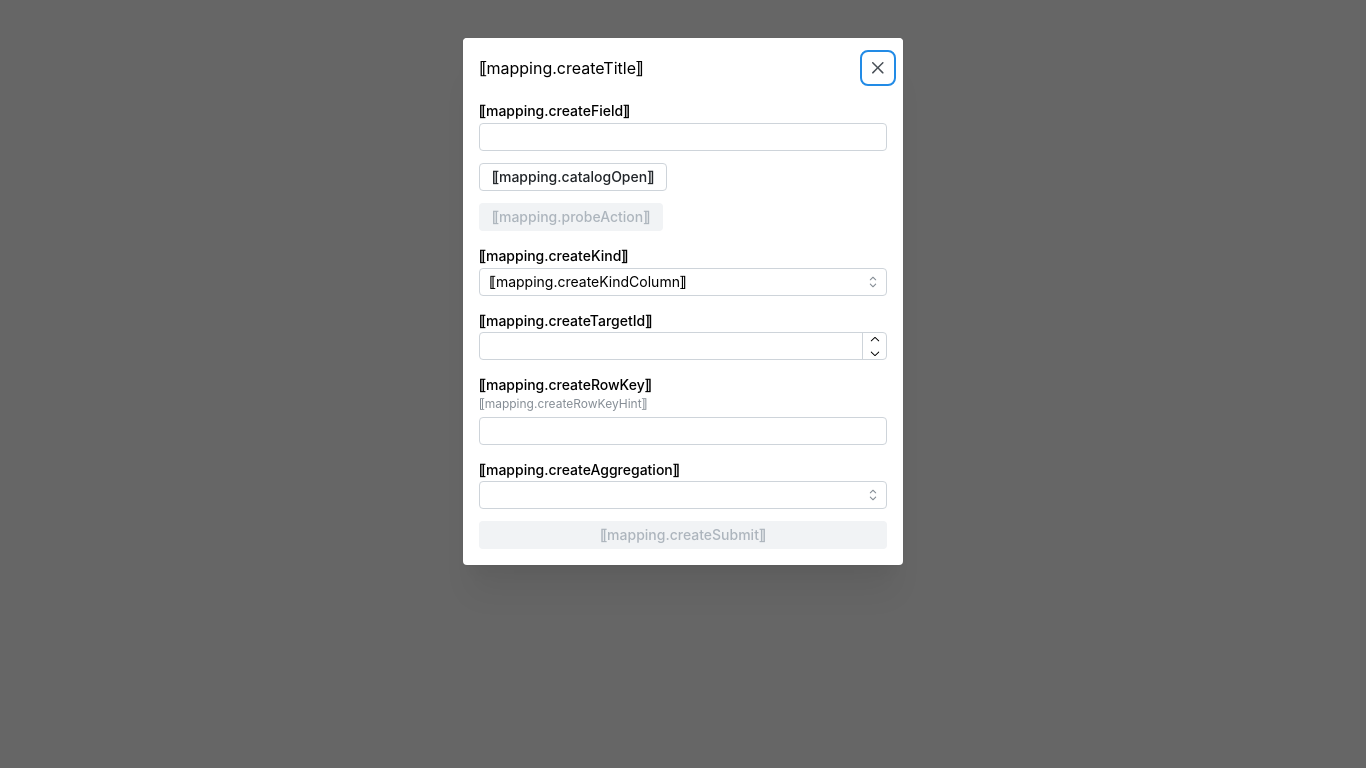
Scenario: Каталог PI AF у формі мапінгу (ФВ-13.13) › атрибут показаний з одиницею джерела
Click the button "⟦mapping.catalogOpen⟧".
click(573, 177)  # box top-left (479, 163), bottom-right (667, 191)
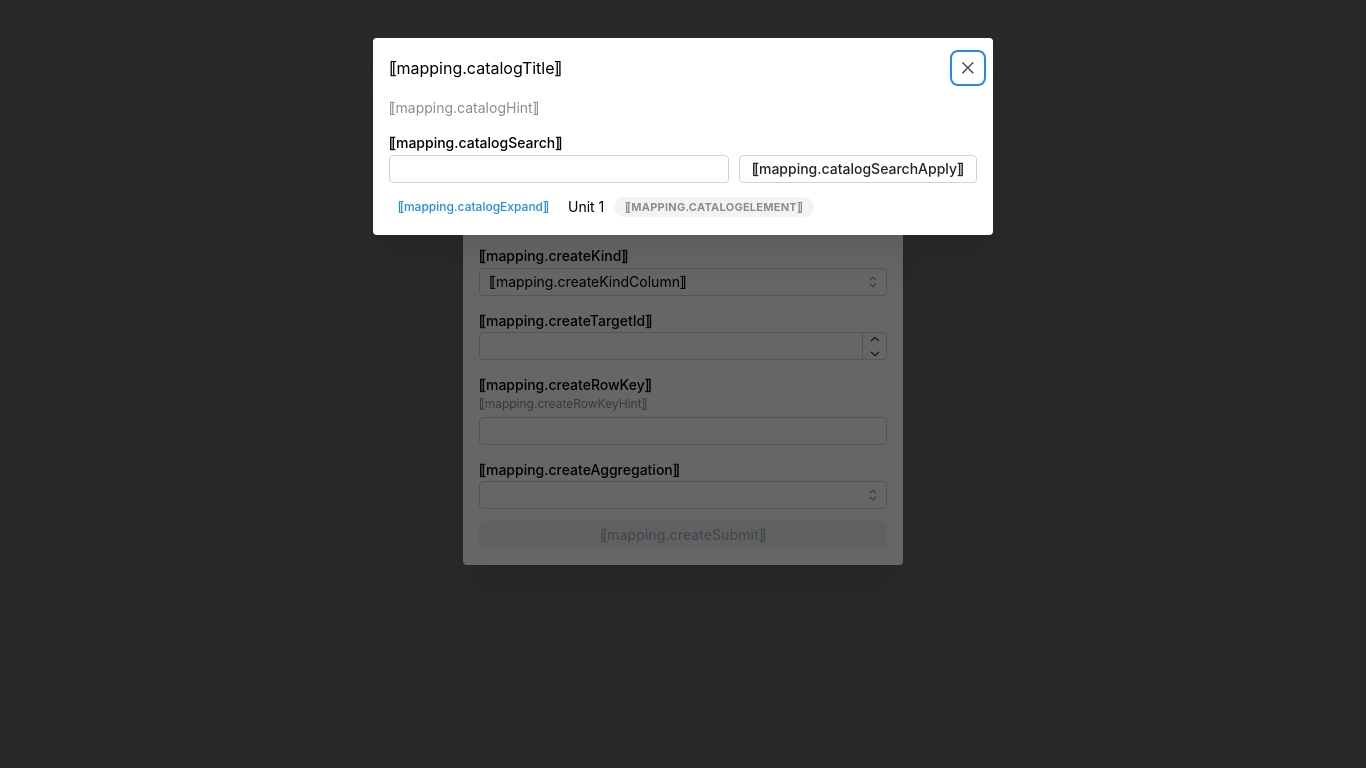
Now the text "Unit 1" is shown, box top-left (568, 197), bottom-right (604, 218)
Click the button "⟦mapping.catalogExpand⟧".
click(474, 208)  # box top-left (389, 196), bottom-right (558, 220)
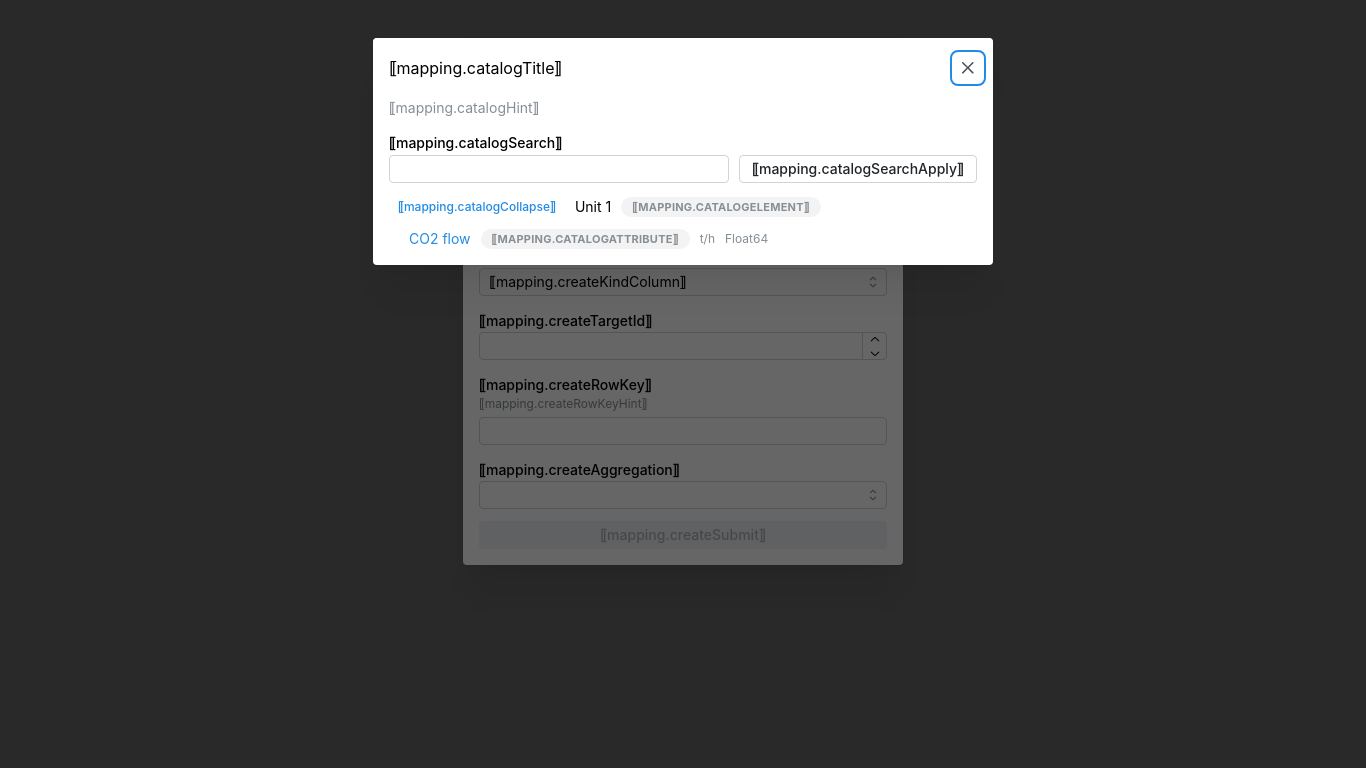
Now the button "CO2 flow" is shown, box top-left (409, 230), bottom-right (471, 250)
Now the text "t/h" is shown, box top-left (700, 231), bottom-right (715, 248)
